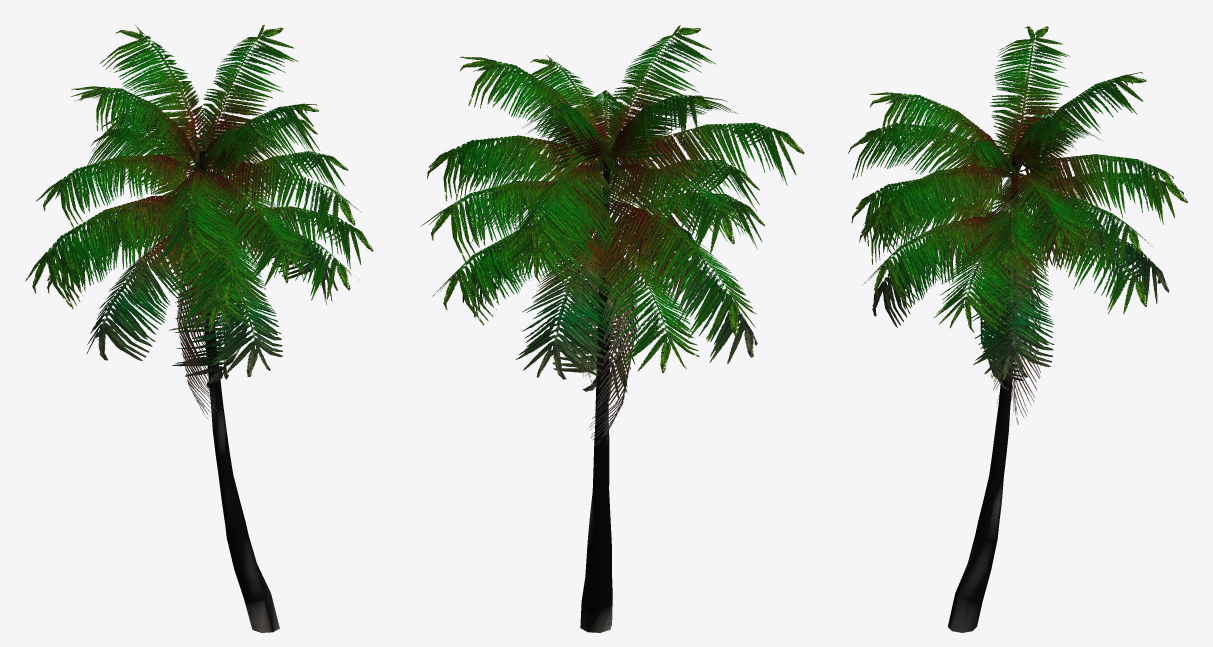
File: palm.glb
3 views of the same model, side by side, from view 1: azimuth 30°, elevation 25°; view 2: azimuth 150°, elevation 25°; view 3: azimuth 270°, elevation 25° (orthographic). The views are drawn at different scales.
Visible parts, largest first — view 1: node-PalmThree256; view 2: node-PalmThree256; view 3: node-PalmThree256.
Boxes of the visible parts, box(x1,y1,x2,y2) form: node-PalmThree256: box(25, 24, 373, 632); node-PalmThree256: box(420, 25, 804, 632); node-PalmThree256: box(848, 26, 1187, 632).
Bounding box in the file's own units: 6.04 × 10.15 × 6.12.
Materials: 4 (4 with a texture image).
